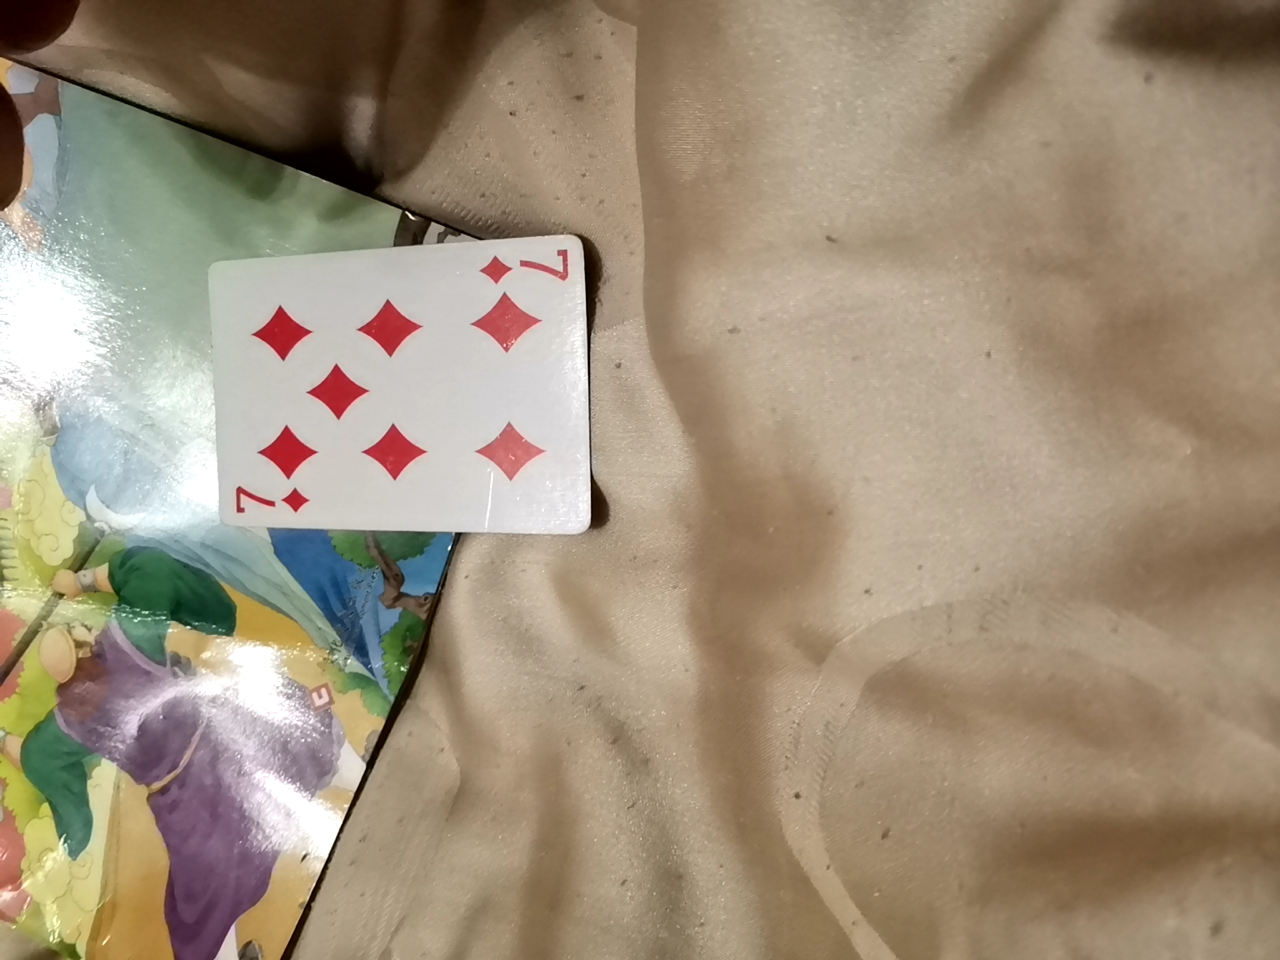fk 7: (180, 233, 569, 536)
